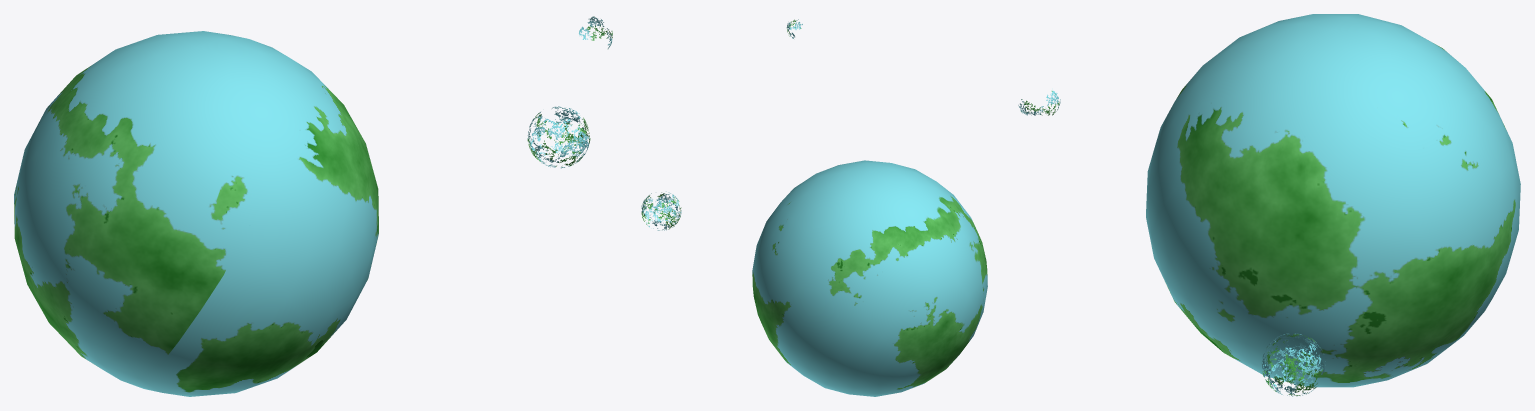
Rendered from Planets Holo.fbx.
3 views of the same model, side by side, from view 1: azimuth 30°, elevation 25°; view 2: azimuth 150°, elevation 25°; view 3: azimuth 270°, elevation 25° (orthographic). The views are drawn at different scales.
Visible parts, largest first — view 1: s3d-planet-proj_756.Shape; view 2: s3d-planet-proj_756.Shape; view 3: s3d-planet-proj_756.Shape.
Boxes of the visible parts, bbox=[...] form: s3d-planet-proj_756.Shape: bbox=[14, 16, 612, 396]; s3d-planet-proj_756.Shape: bbox=[641, 19, 987, 396]; s3d-planet-proj_756.Shape: bbox=[1018, 14, 1520, 396].
Size of the model in its own units: 122 by 89.79 by 98.03.
3 materials, 3 textured.
